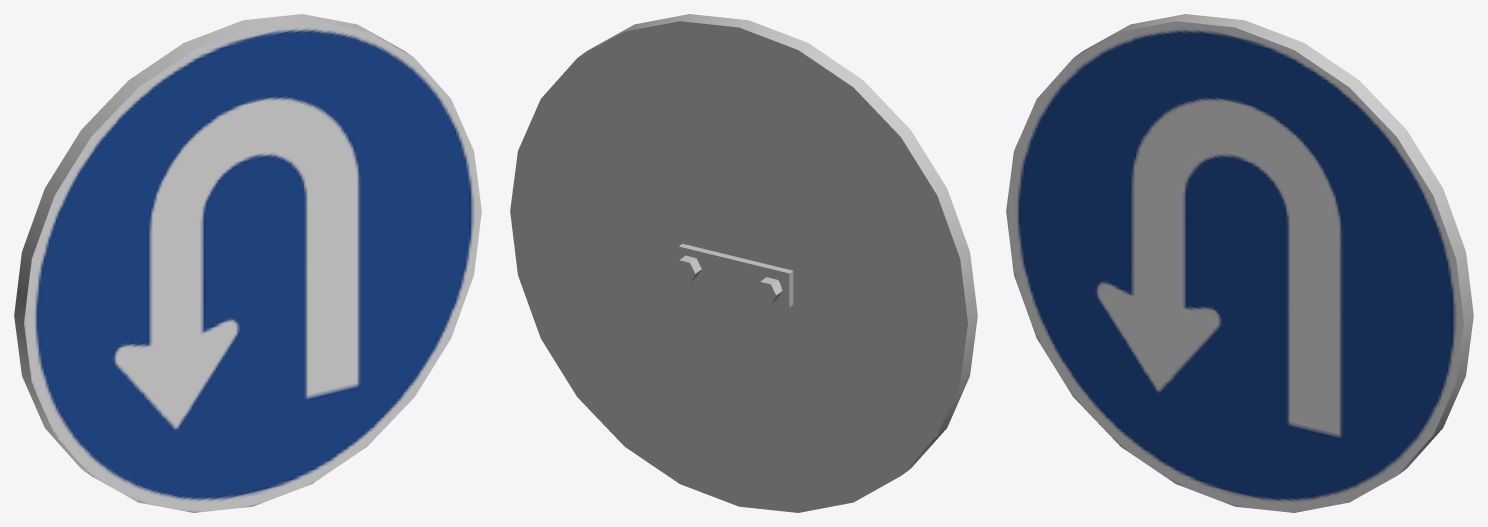
Rendered from Prop_sign_circular_01.fbx.
The picture shows the model from 3 angles, left to right: view 1: azimuth 30°, elevation 25°; view 2: azimuth 150°, elevation 25°; view 3: azimuth 330°, elevation 25°; orthographic projection.
Visible parts, largest first — view 1: Prop_sign_circular_hanging_01_LOD0; view 2: Prop_sign_circular_hanging_01_LOD0; view 3: Prop_sign_circular_hanging_01_LOD0.
Part boxes in pixels (x1,y1,x2,y2): Prop_sign_circular_hanging_01_LOD0: [14, 14, 481, 512]; Prop_sign_circular_hanging_01_LOD0: [510, 14, 977, 512]; Prop_sign_circular_hanging_01_LOD0: [1006, 14, 1473, 512].
Size of the model in its own units: 0.6076 by 0.6076 by 0.0542.
